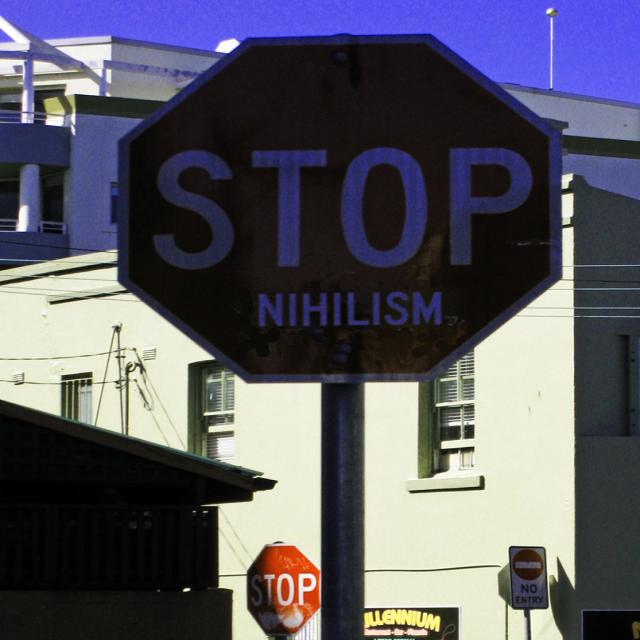Stop-sign: (115, 31, 564, 386)
